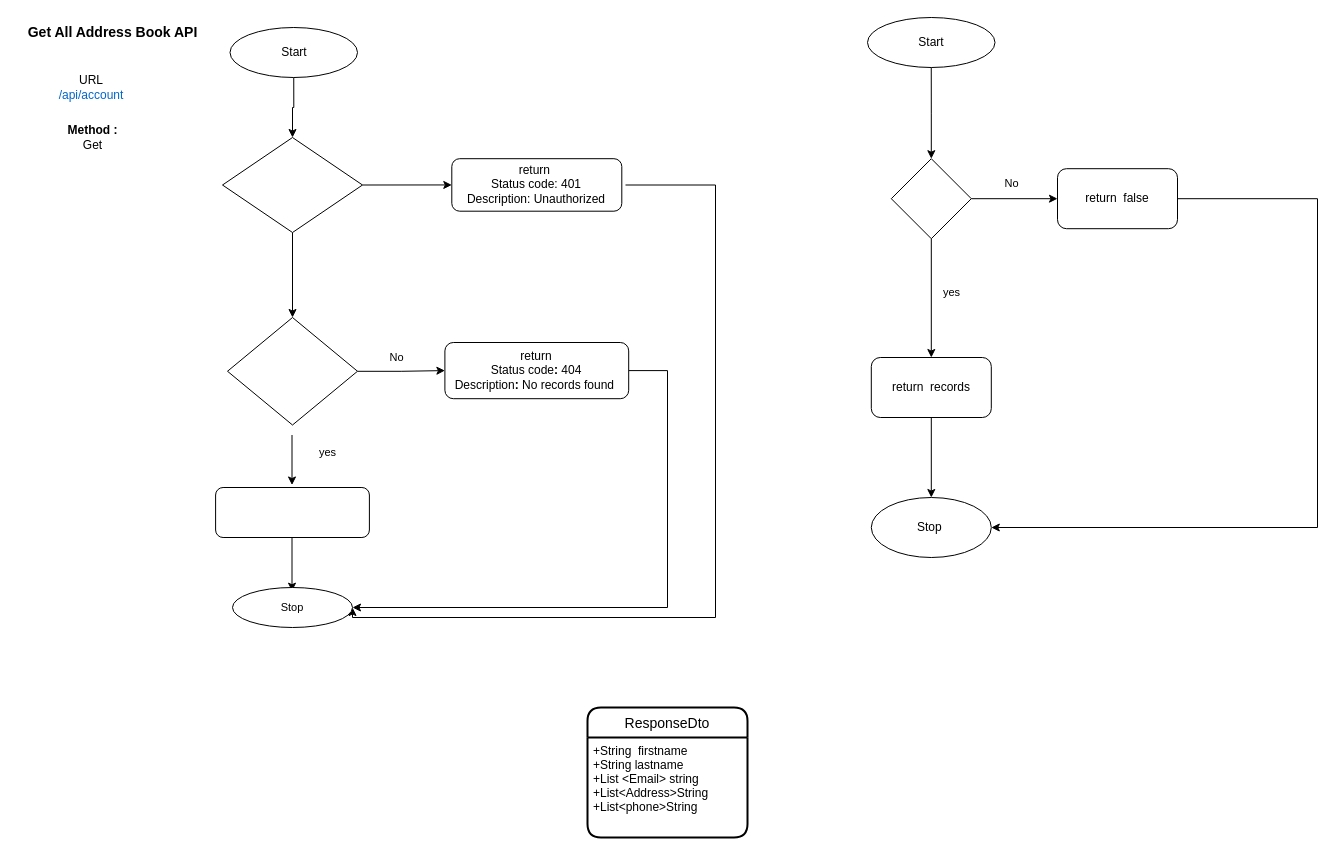
This 1343x856 diagram has some shape labels left out. Each missing label, with the centre of its shape:
call GetAllBook(): pixel 292 370
checks record found: pixel 930 198
Is Authorized?: pixel 292 184
return Status code : 200 responseDto: pixel 292 512
